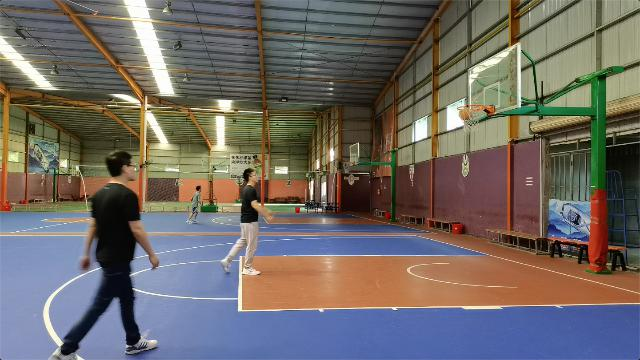basket: (457, 103, 485, 131)
goal: (458, 105, 472, 119)
